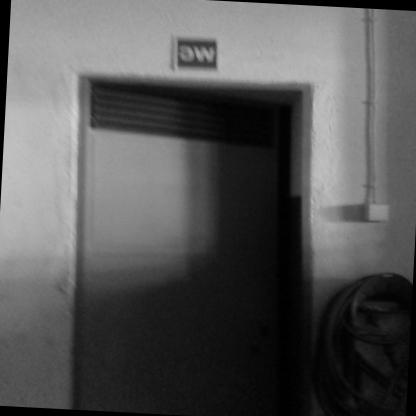semi: (44, 50, 340, 416)
